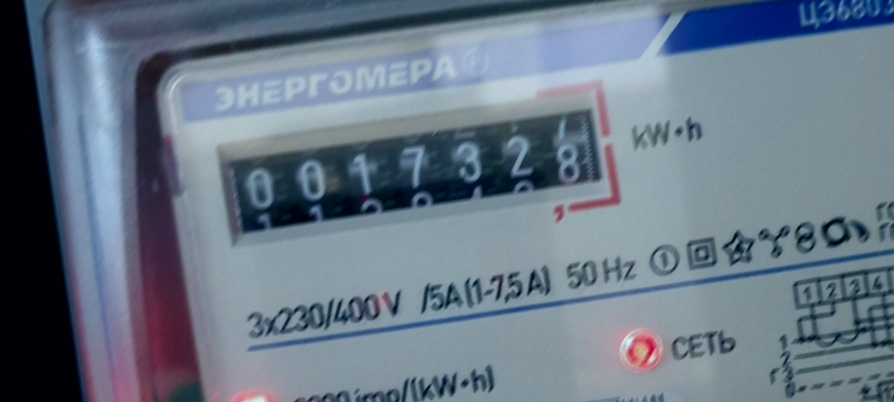0: (241, 165, 279, 214), (294, 155, 329, 204)
1: (348, 150, 375, 199)
2: (500, 132, 535, 181)
3: (451, 139, 484, 186)
7: (398, 143, 431, 193)
8: (551, 141, 582, 187)
screen: (205, 82, 629, 268)
